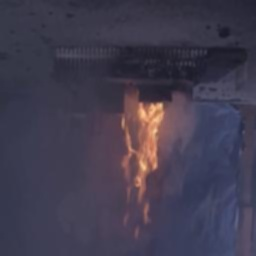fire: (119, 101, 160, 233)
